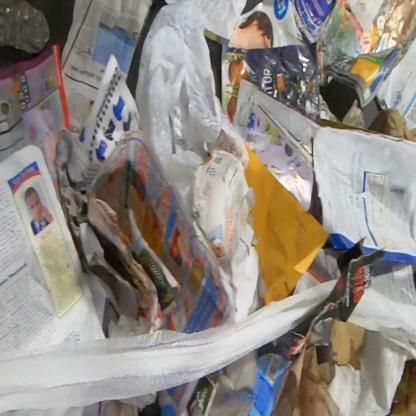cardboard: (257, 251, 384, 371), (190, 150, 256, 263)
rigid_plastic: (0, 0, 51, 56)
soft_plastic: (134, 0, 249, 221)
